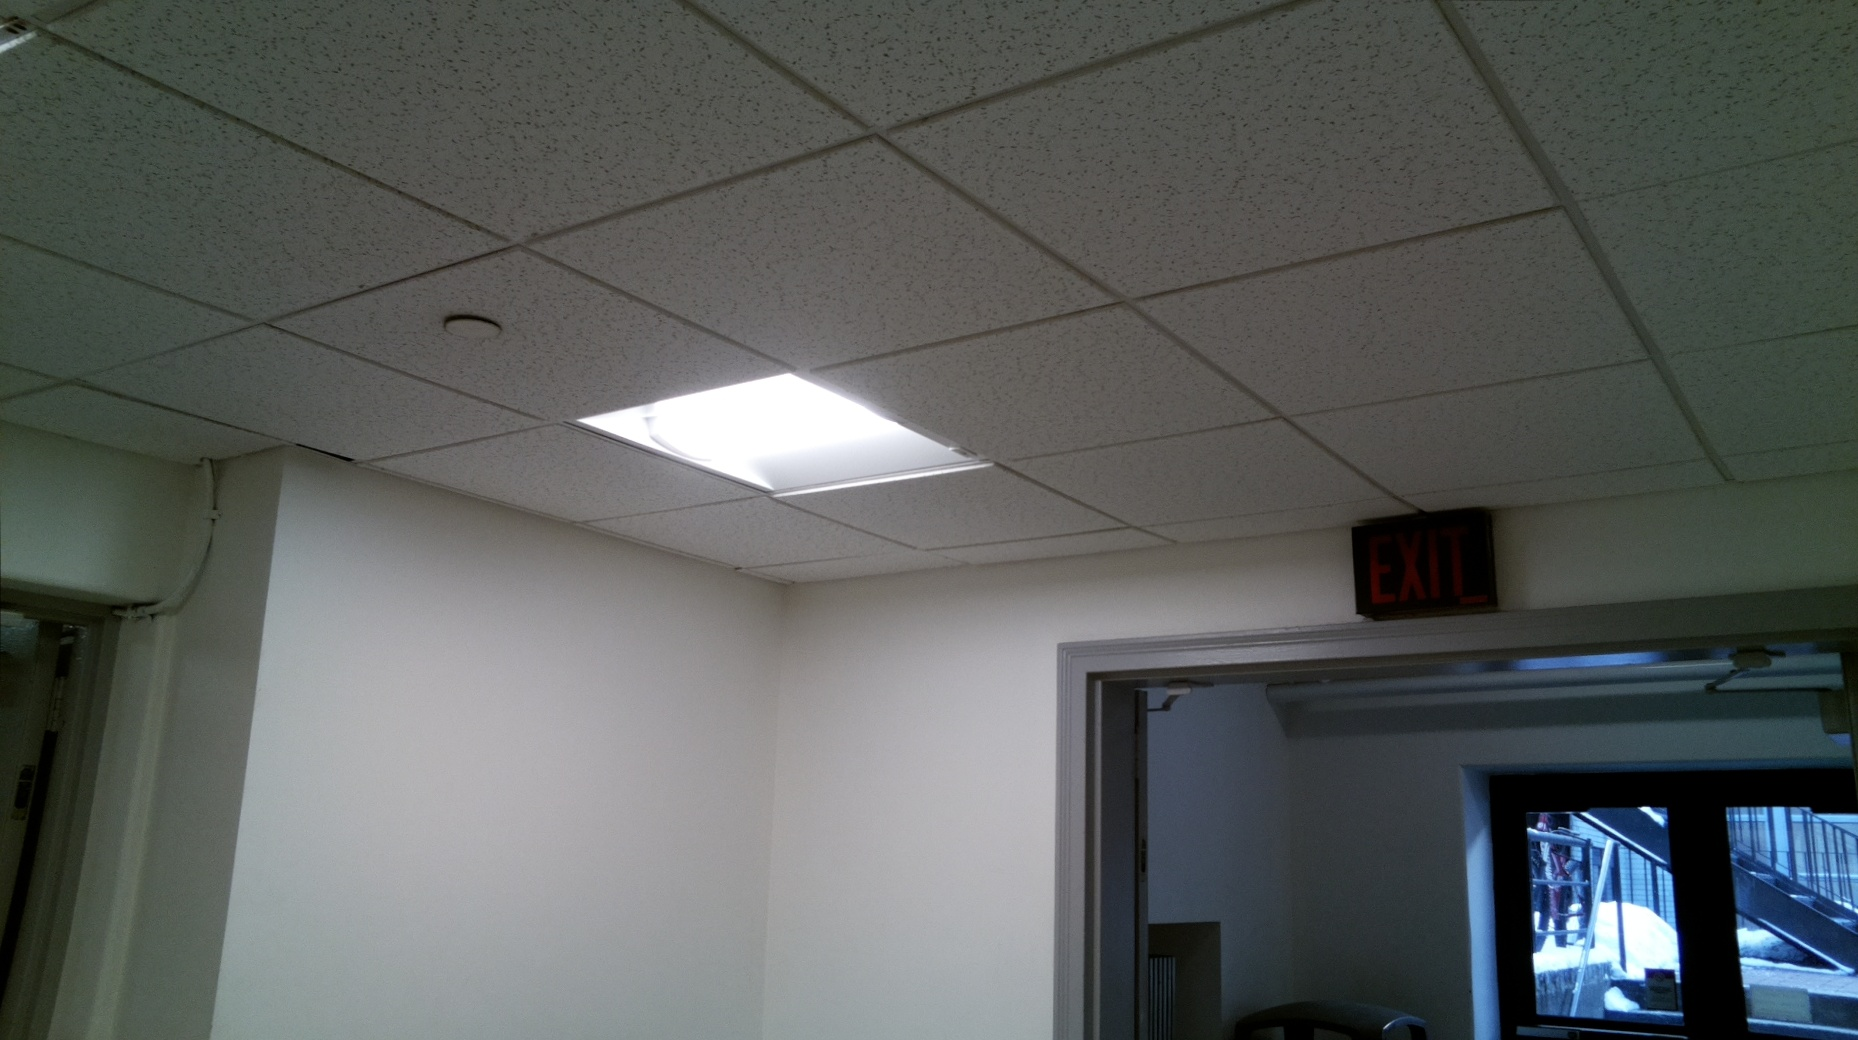exit sign: (1346, 501, 1505, 627)
